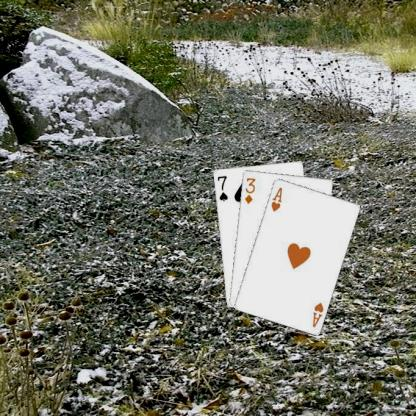3D: (242, 175, 257, 205)
7S: (214, 172, 229, 202)
AH: (268, 184, 283, 213), (310, 300, 324, 328)
